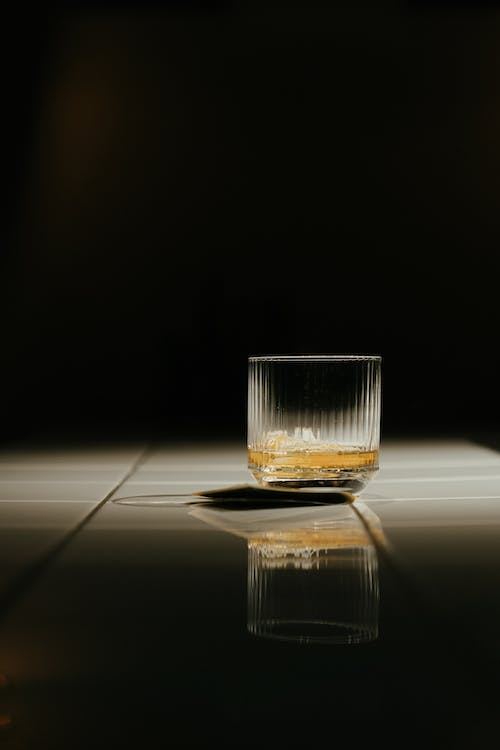alcohol: (245, 355, 382, 498)
